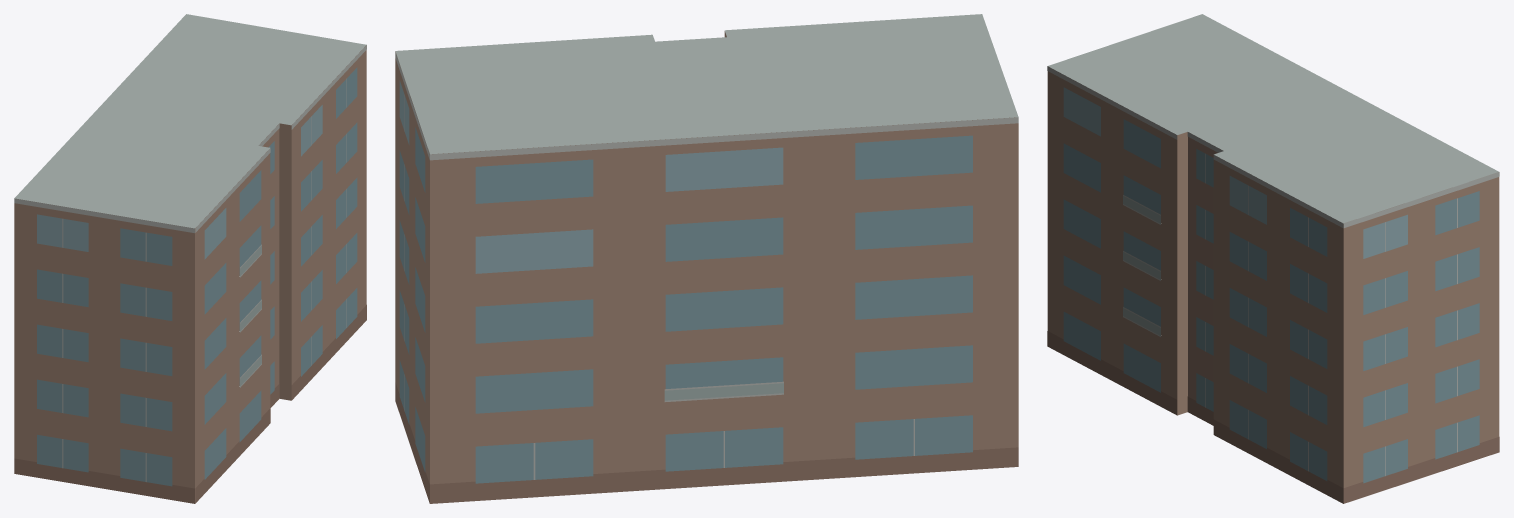
File: survey-upis-32762086.glb
The picture shows the model from 3 angles, left to right: view 1: azimuth 30°, elevation 25°; view 2: azimuth 150°, elevation 25°; view 3: azimuth 270°, elevation 25°; orthographic projection. The views are drawn at different scales.
Visible parts, largest first — view 1: survey-upis-32762086.tmp; view 2: survey-upis-32762086.tmp; view 3: survey-upis-32762086.tmp.
Part boxes in pixels (bbox=[...]): survey-upis-32762086.tmp: bbox=[14, 14, 366, 503]; survey-upis-32762086.tmp: bbox=[395, 14, 1018, 503]; survey-upis-32762086.tmp: bbox=[1047, 14, 1499, 503].
Bounding box in the file's own units: 22.44 × 14 × 20.46.
